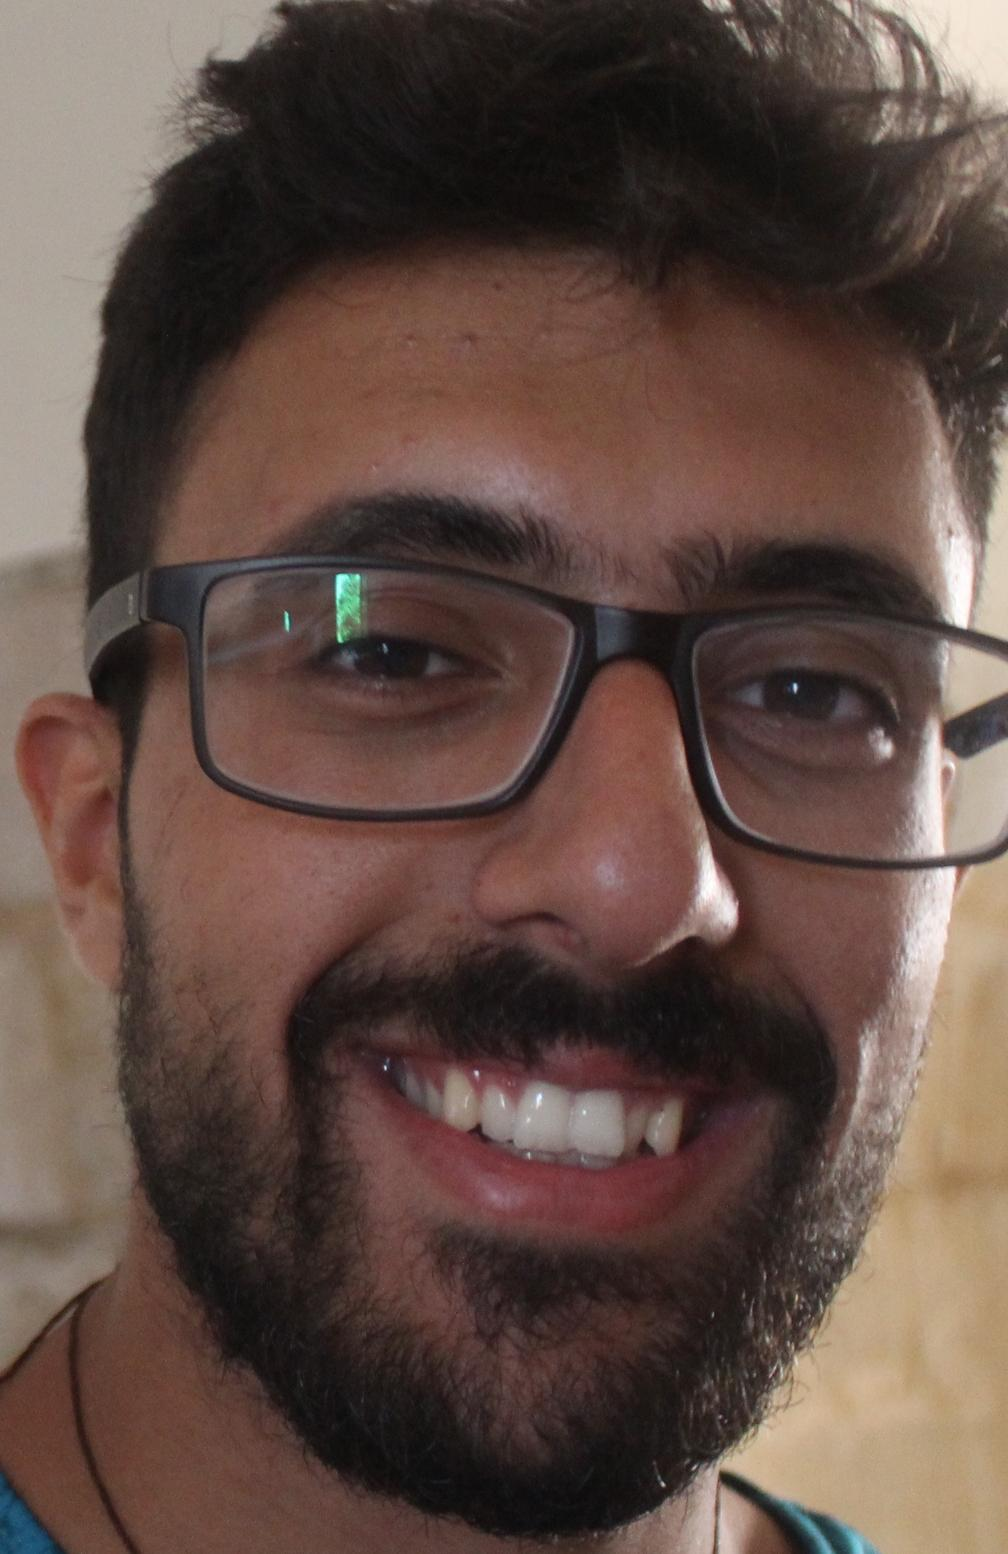face: (14, 38, 976, 1509)
